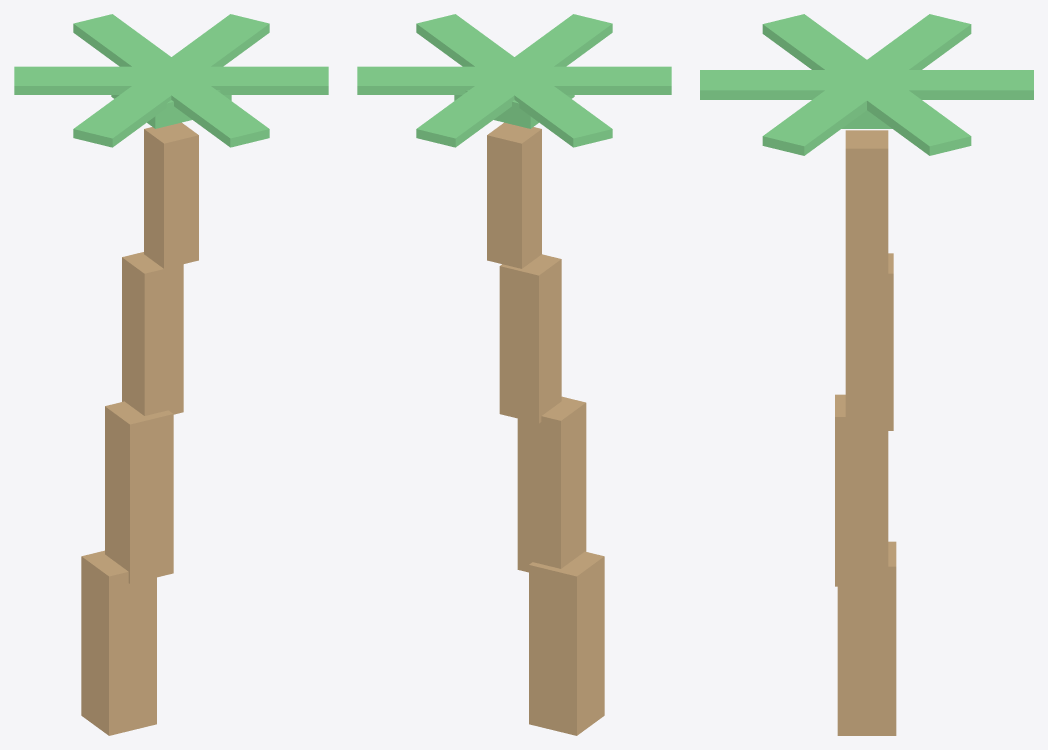
The model's file is palm.gltf.
3 views of the same model, side by side, from view 1: azimuth 30°, elevation 25°; view 2: azimuth 150°, elevation 25°; view 3: azimuth 270°, elevation 25° (orthographic). The views are drawn at different scales.
Visible parts, largest first — view 1: trunk (×4), foliage (×7); view 2: trunk (×4), foliage (×7); view 3: trunk (×4), foliage (×6).
Part boxes in pixels (x1,y1,x2,y2): trunk (×4): (81, 122, 198, 735); foliage (×7): (14, 14, 328, 147); trunk (×4): (487, 122, 604, 735); foliage (×7): (357, 14, 671, 147); trunk (×4): (835, 130, 896, 735); foliage (×6): (700, 14, 1033, 155).
Size of the model in its own units: 1.17 by 2.77 by 1.25.
